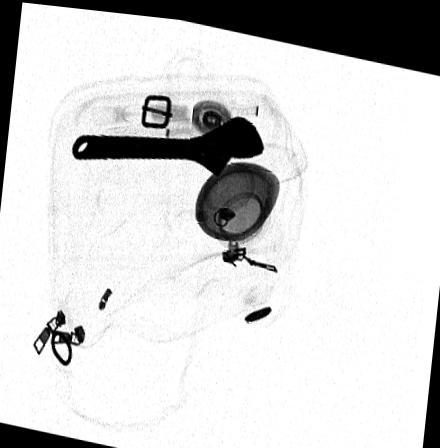Wrench: (72, 109, 265, 173)
